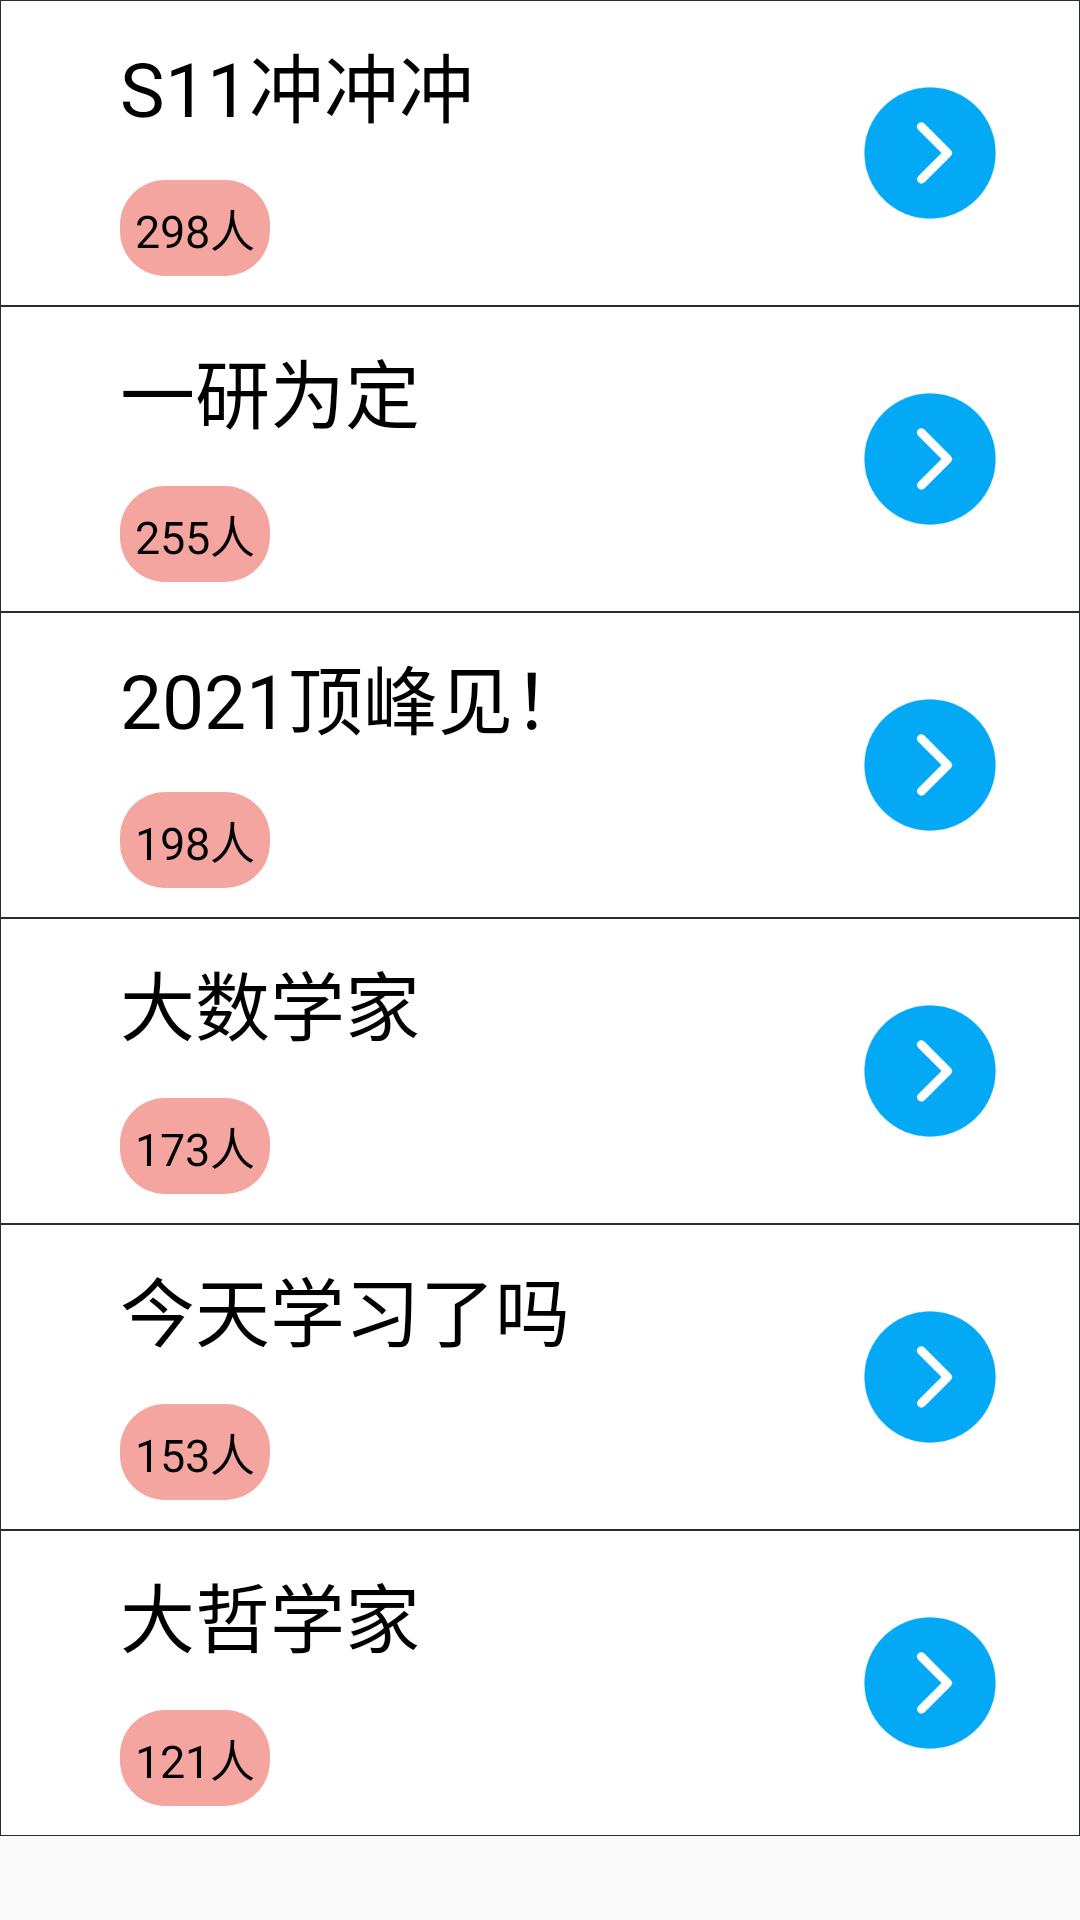

Icons on this 1080 x 1920 Android screen, each with the point to tap as (x,y):
enter study room: (930,153), (930,459), (930,765), (930,1071), (930,1377), (930,1683)
